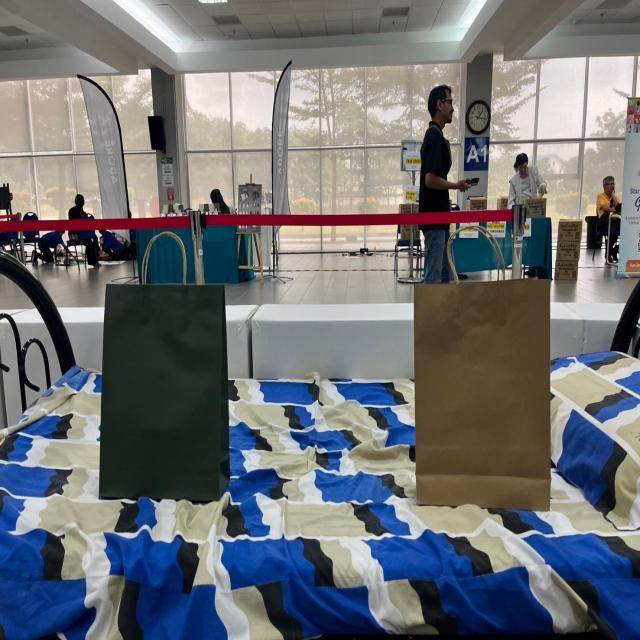bag: (416, 216, 550, 510), (103, 205, 220, 502)
